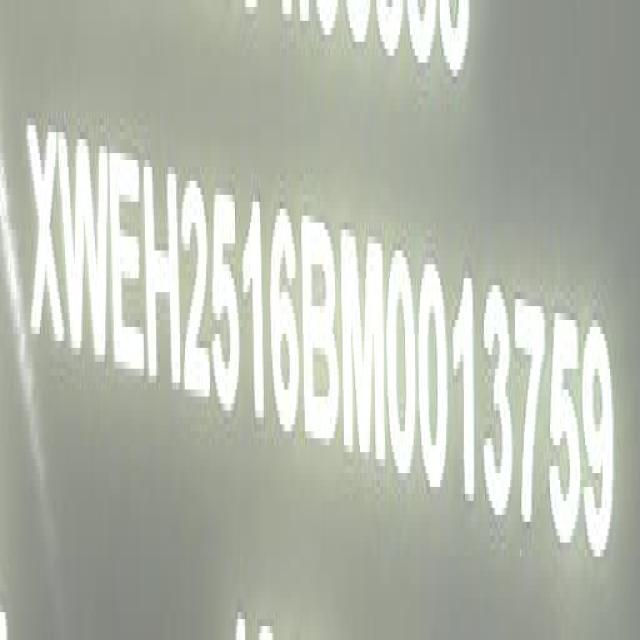0: (418, 252, 450, 497), (389, 237, 420, 484)
1: (243, 185, 265, 430), (454, 267, 476, 511)
2: (182, 169, 214, 414)
3: (482, 276, 514, 524)
5: (547, 301, 580, 550), (212, 175, 241, 419)
6: (268, 195, 301, 440)
7: (517, 290, 547, 537)
9: (583, 325, 617, 563)
B: (299, 205, 342, 456)
E: (111, 140, 145, 390)
H: (144, 151, 180, 401)
M: (339, 224, 386, 473)
W: (61, 119, 113, 378)
X: (24, 108, 65, 364)
